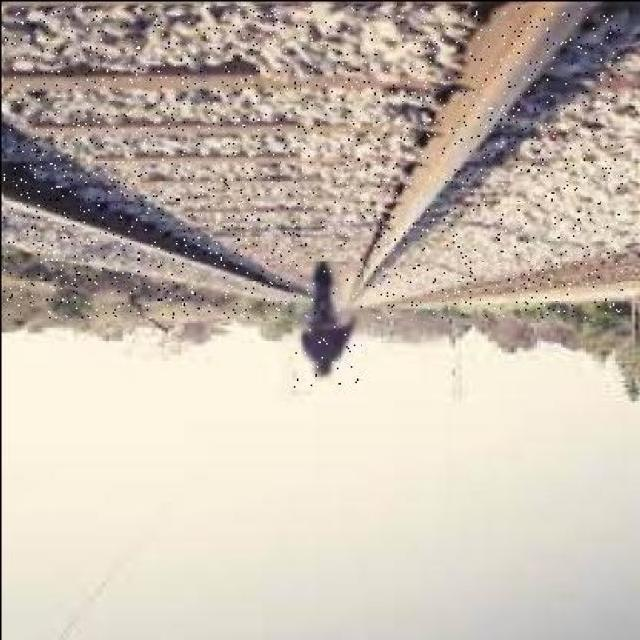rail: (4, 7, 622, 317)
